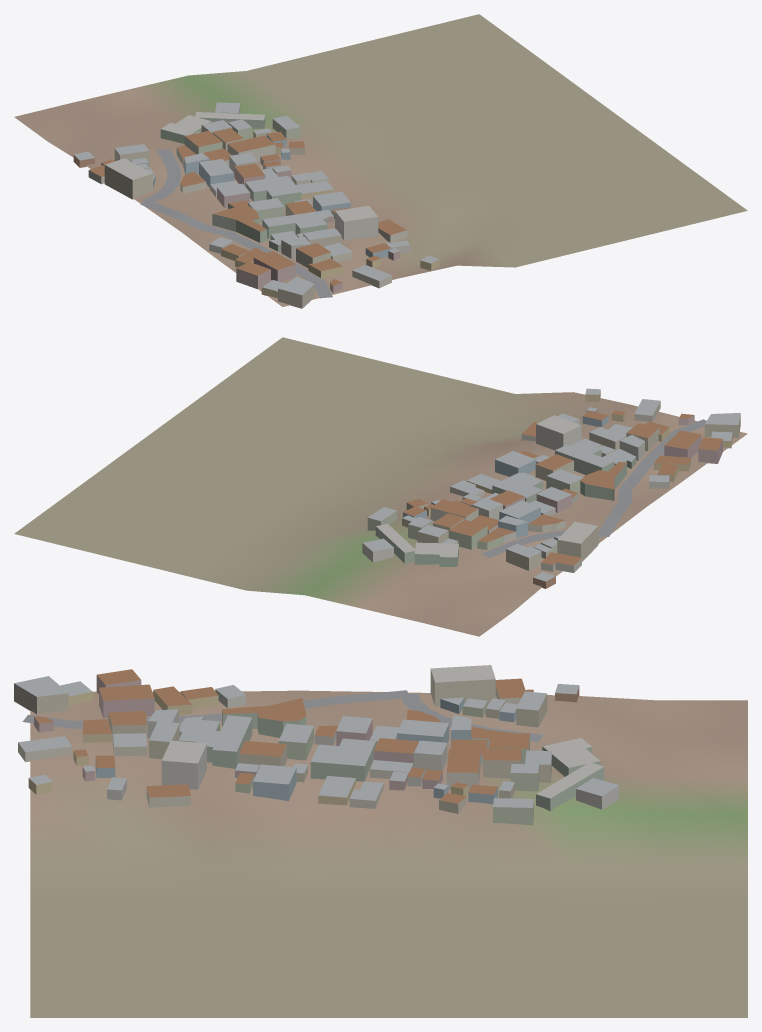
The picture shows the model from 3 angles, top to bottom: view 1: azimuth 30°, elevation 25°; view 2: azimuth 150°, elevation 25°; view 3: azimuth 270°, elevation 25°; orthographic projection. The views are drawn at different scales.
Visible parts, largest first — view 1: Lo; view 2: Lo; view 3: Lo.
Boxes of the visible parts, x1,y1,x2,y2 form: Lo: [14, 14, 747, 308]; Lo: [14, 337, 747, 636]; Lo: [14, 665, 747, 1017].
Bounding box in the file's own units: 262 × 19.05 × 262.
